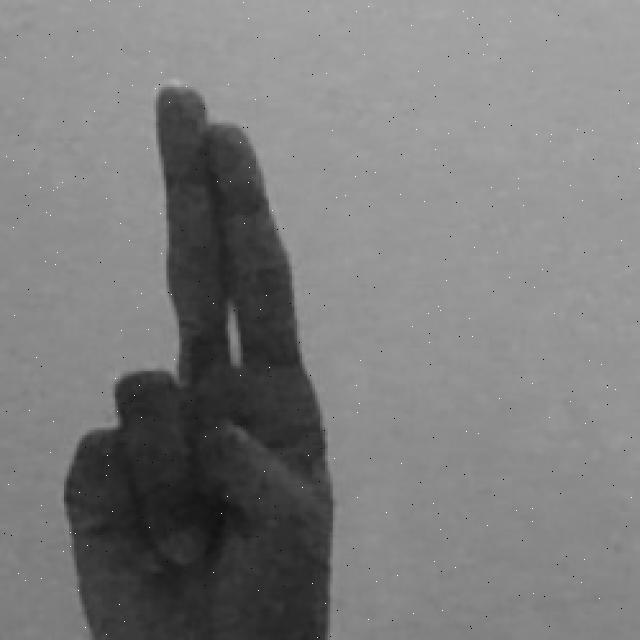U: (57, 77, 340, 640)
